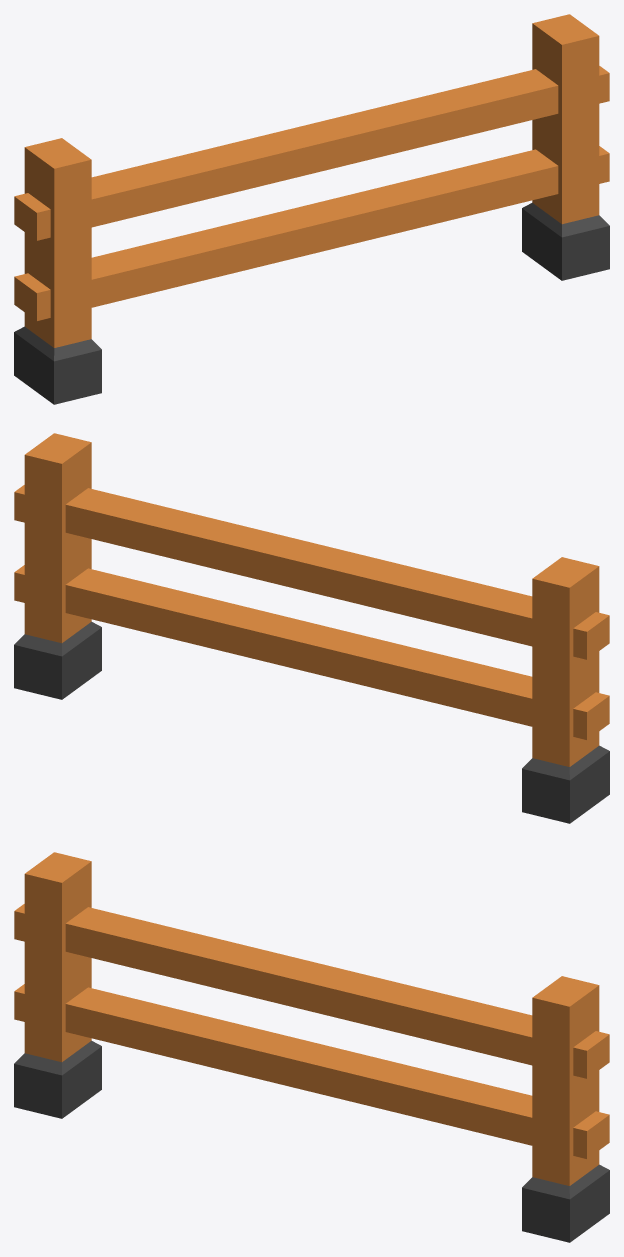
File: Pagar.fbx
The picture shows the model from 3 angles, top to bottom: view 1: azimuth 30°, elevation 25°; view 2: azimuth 150°, elevation 25°; view 3: azimuth 330°, elevation 25°; orthographic projection.
Parts seen in each view (by area): view 1: Pagar; view 2: Pagar; view 3: Pagar.
Part boxes in pixels (box(x1,y1,x2,y2)): Pagar: box(14, 14, 609, 404); Pagar: box(14, 433, 609, 823); Pagar: box(14, 852, 609, 1242).
Bounding box in the file's own units: 208 × 79.91 × 25.15.
